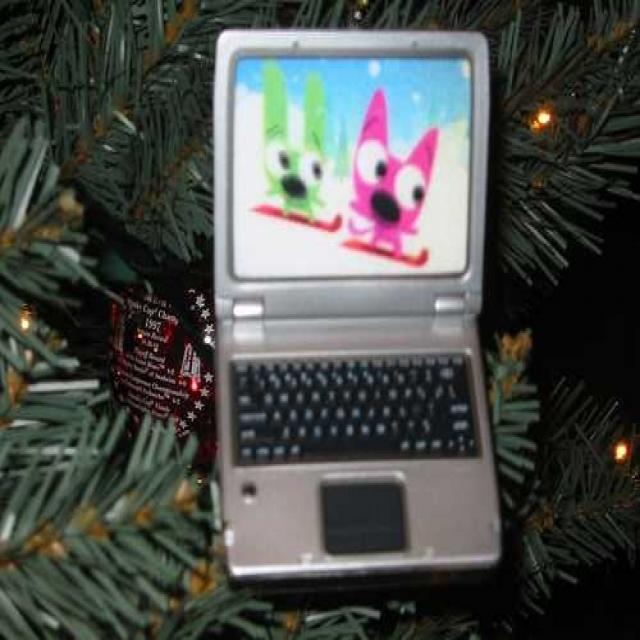laptop: (216, 36, 496, 562)
